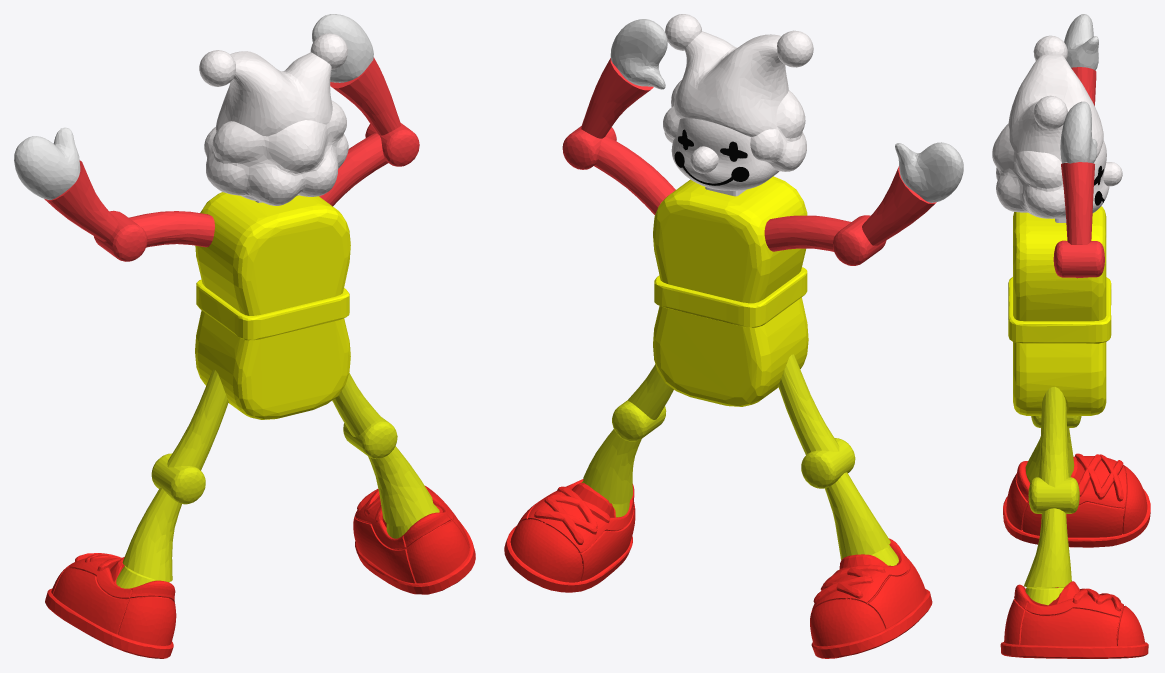
Rendered from clown.glb.
The picture shows the model from 3 angles, left to right: view 1: azimuth 30°, elevation 25°; view 2: azimuth 150°, elevation 25°; view 3: azimuth 270°, elevation 25°; orthographic projection. The views are drawn at different scales.
Visible parts, largest first — view 1: body, head, leftShoe, leftLeg, rightShoe, rightLeg, leftArm, rightArm, leftHand, rightHand; view 2: body, head, rightShoe, leftShoe, leftLeg, rightArm, leftArm, rightLeg, leftHand, rightHand; view 3: body, head, rightShoe, leftShoe, rightLeg, rightArm, rightHand, leftHand, leftLeg, leftArm.
Boxes of the visible parts, x1,y1,x2,y2 form: body: (195,192,350,419); head: (199,33,348,205); leftShoe: (45,553,176,658); leftLeg: (116,369,228,588); rightShoe: (353,486,475,594); rightLeg: (332,373,439,538); leftArm: (44,160,214,261); rightArm: (319,57,419,206); leftHand: (14,127,80,199); rightHand: (312,14,373,82); body: (653,176,808,406); head: (663,14,813,196); rightShoe: (504,479,635,592); leftShoe: (810,538,932,658); leftLeg: (778,354,898,565); rightArm: (562,58,675,214); leftArm: (764,166,936,265); rightLeg: (581,364,673,517); leftHand: (895,142,963,202); rightHand: (610,19,667,89); body: (1008,206,1111,415); head: (992,35,1122,222); rightShoe: (1000,581,1148,658); leftShoe: (1003,453,1150,547); rightLeg: (1023,387,1079,605); rightArm: (1053,162,1104,278); rightHand: (1060,101,1097,163); leftHand: (1064,14,1098,70); leftLeg: (1025,416,1081,482); leftArm: (1071,67,1096,105).
Bounding box in the file's own units: 19.06 × 23.91 × 6.41.
